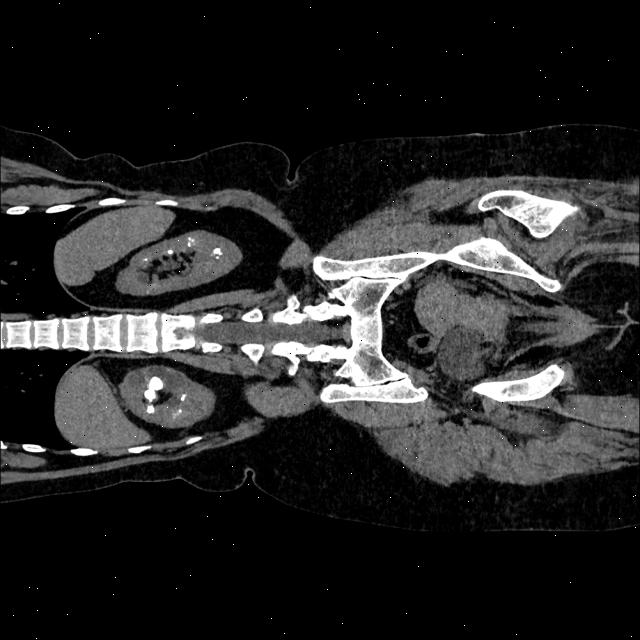kidneystone: (144, 375, 164, 411), (213, 246, 222, 259), (140, 415, 155, 421), (145, 404, 154, 414), (187, 236, 195, 246), (181, 392, 187, 401), (139, 258, 145, 265), (162, 250, 172, 254), (176, 235, 181, 238), (171, 238, 175, 240)
